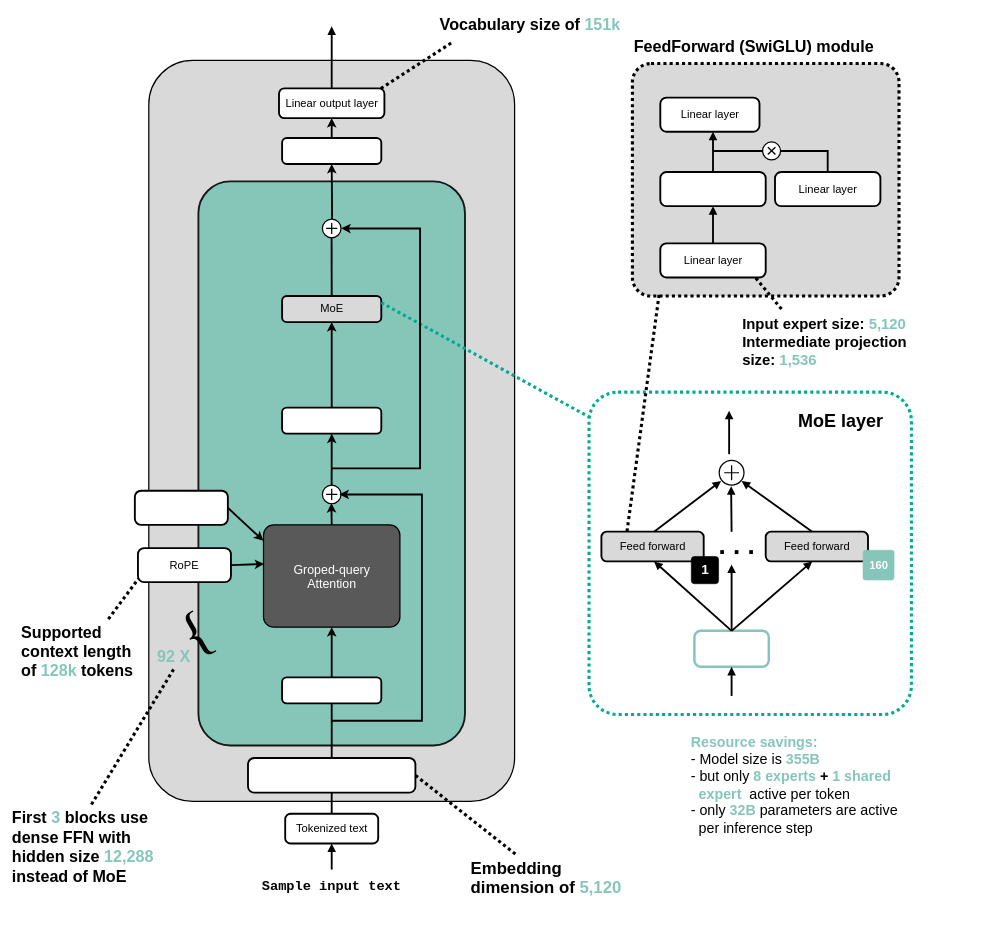
This 984x929 diagram has some shape labels left out. Here are the shapes that lost their labels. From the top down, the centre of each, then its label:
the point at 331,151: Final RMSNorm
the point at 712,189: SiLU activation
the point at 331,420: RMSNorm 2
the point at 181,507: QK-Norm
the point at 731,648: Router
the point at 331,690: RMSNorm 1
the point at 331,775: Token embedding layer
